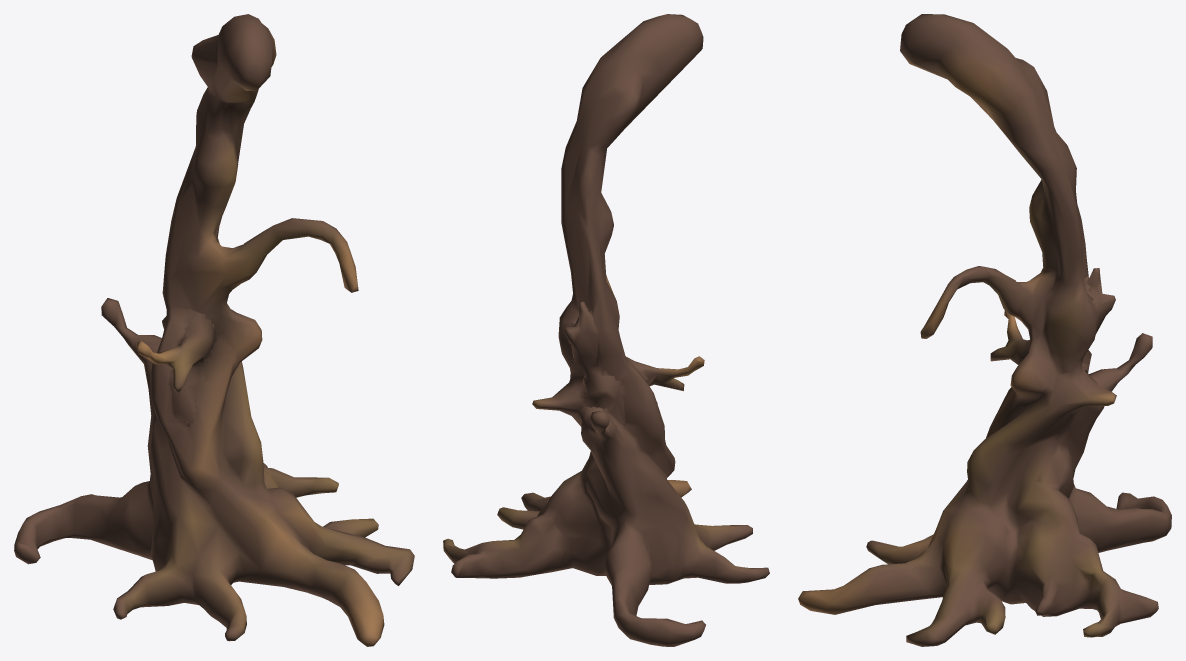
Rendered from TREETRUNK.fbx.
3 views of the same model, side by side, from view 1: azimuth 30°, elevation 25°; view 2: azimuth 150°, elevation 25°; view 3: azimuth 270°, elevation 25° (orthographic). The views are drawn at different scales.
Visible parts, largest first — view 1: Sphère Quad 1.001; view 2: Sphère Quad 1.001; view 3: Sphère Quad 1.001.
Part boxes in pixels (x1,y1,x2,y2): Sphère Quad 1.001: [14, 14, 414, 646]; Sphère Quad 1.001: [443, 14, 769, 646]; Sphère Quad 1.001: [798, 14, 1171, 646].
Size of the model in its own units: 805 by 1491 by 886.
